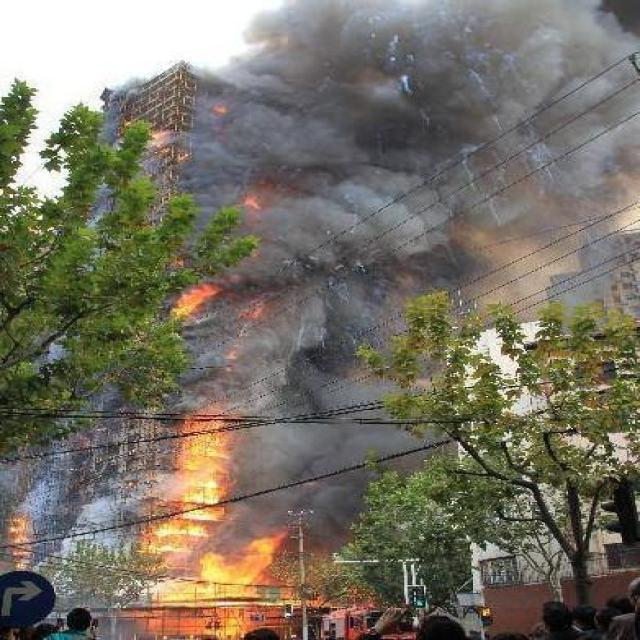Fire: (113, 406, 324, 638), (154, 412, 301, 607), (172, 282, 260, 352)
Smoke: (153, 0, 628, 471), (195, 0, 598, 372)
